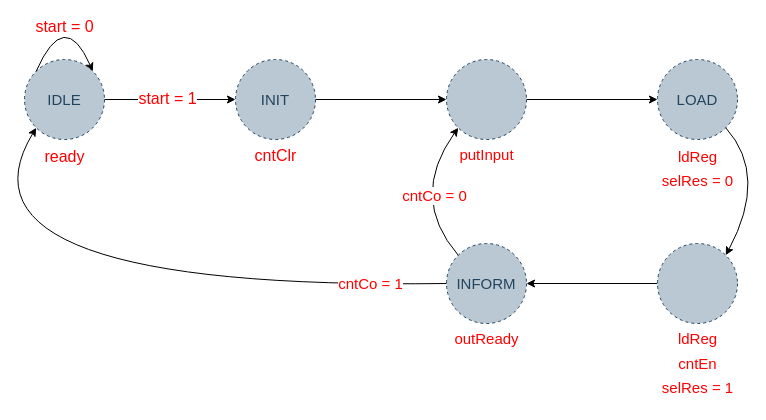
Image size: 766x420. Some labels were removed from this diagram. Here are the shapes that lost their labels. From the top down, the box of each, then its label:
(446, 58, 526, 140): REQUEST
(656, 242, 738, 324): WRITE
